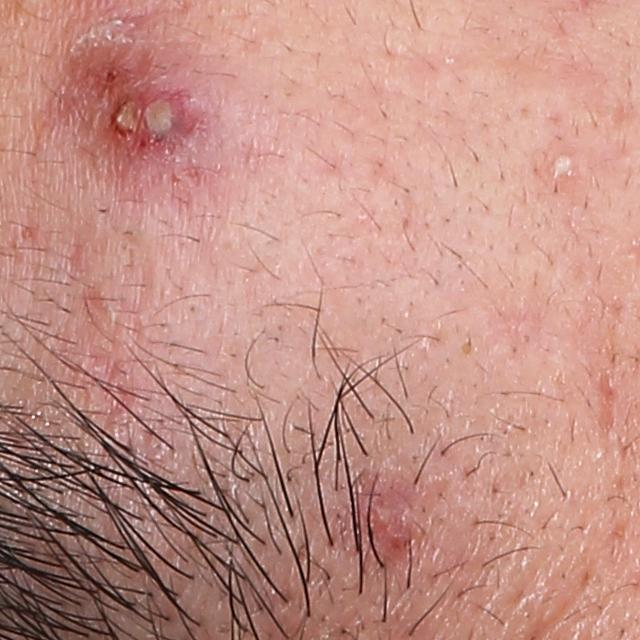atrophic_scar: (595, 361, 625, 440)
comedo: (454, 338, 478, 362)
pustule: (544, 147, 582, 180)
